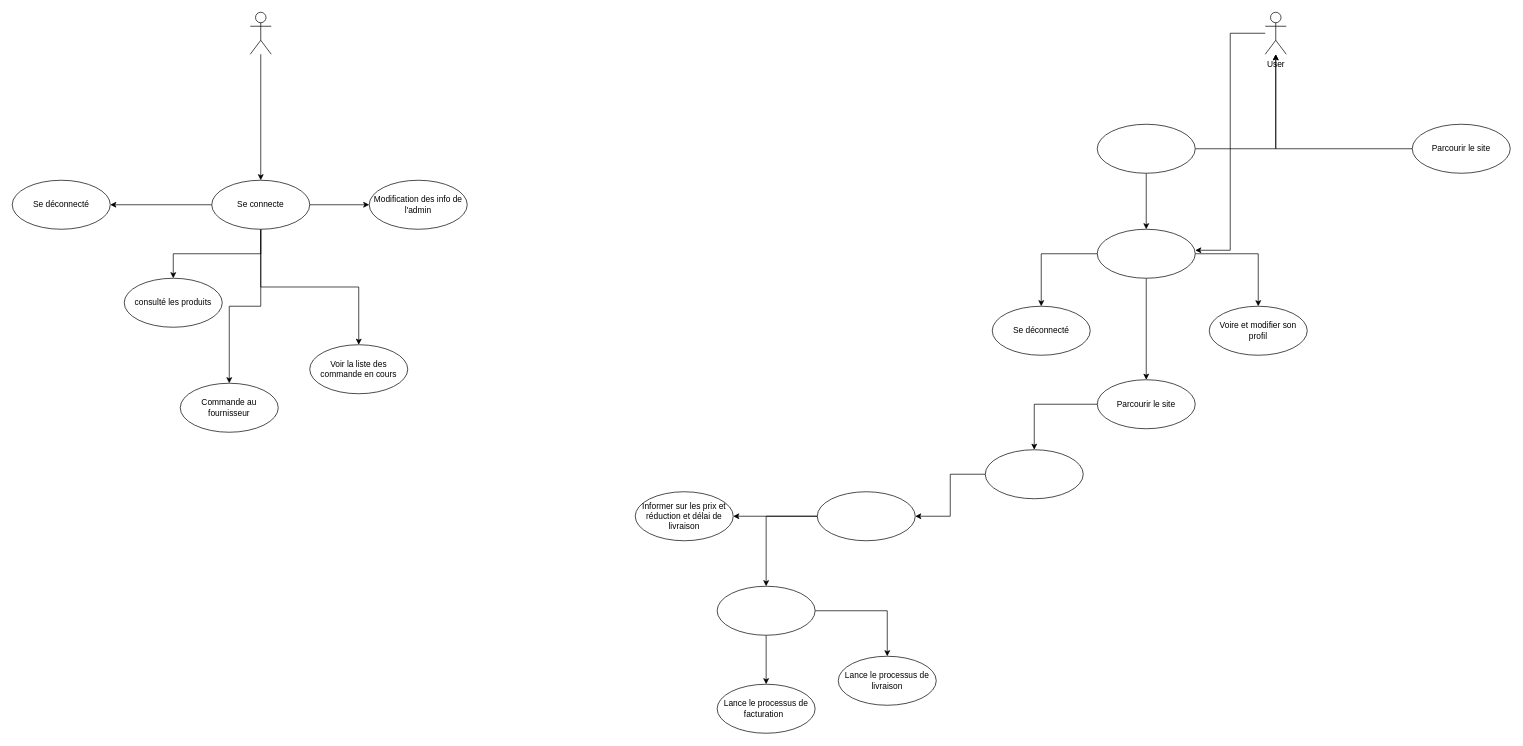
This 1523x746 diagram has some shape labels left out. Here are the shapes that lost their labels. From the top down, the centre of each, then its label:
pixel 260 33: admin
pixel 1146 148: S'inscrire
pixel 1146 253: Se connecter
pixel 1034 474: Mettre les produits dans le panier
pixel 866 516: Consulter le contenu du panier
pixel 765 610: Validé le contenu du panier
